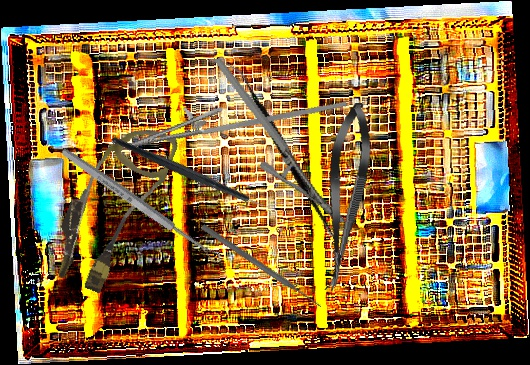Cannula: (43, 111, 181, 301)
Chopper: (110, 88, 282, 257)
Micro Scissor: (312, 100, 378, 294)
Needle Holder: (212, 36, 348, 245), (118, 59, 348, 176)
Pusher: (199, 222, 324, 311)
Spatula Surgical: (177, 59, 398, 245)
Surgical Spoon: (58, 145, 224, 266)
